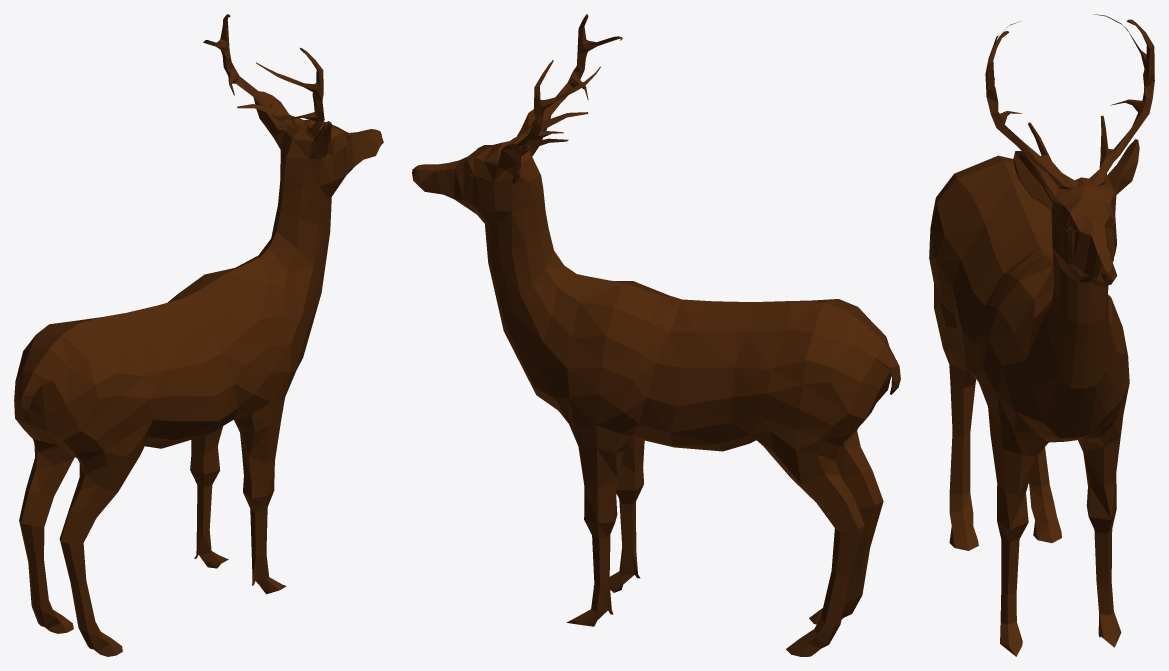
File: guardian2.obj
The picture shows the model from 3 angles, left to right: view 1: azimuth 30°, elevation 25°; view 2: azimuth 150°, elevation 25°; view 3: azimuth 270°, elevation 25°; orthographic projection. The views are drawn at different scales.
Parts seen in each view (by area): view 1: Deer; view 2: Deer; view 3: Deer.
Part boxes in pixels (bbox=[...]): Deer: bbox=[14, 14, 383, 656]; Deer: bbox=[412, 14, 900, 656]; Deer: bbox=[929, 14, 1154, 656].
Size of the model in its own units: 0.9701 by 1.21 by 0.3916.
